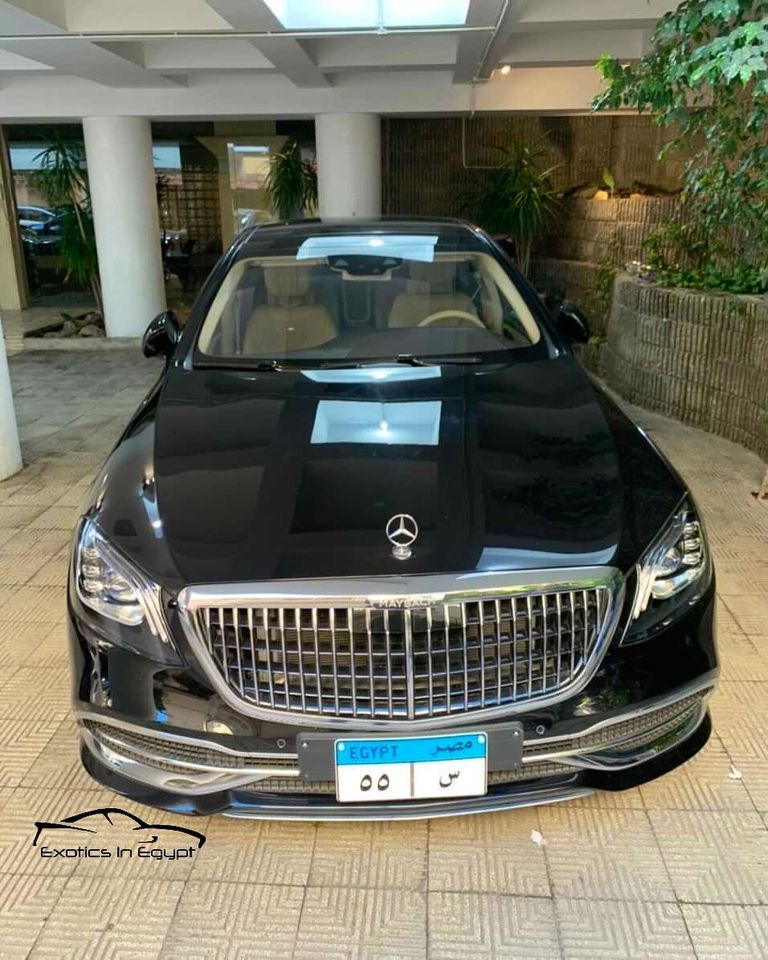carpl: (337, 728, 491, 817)
